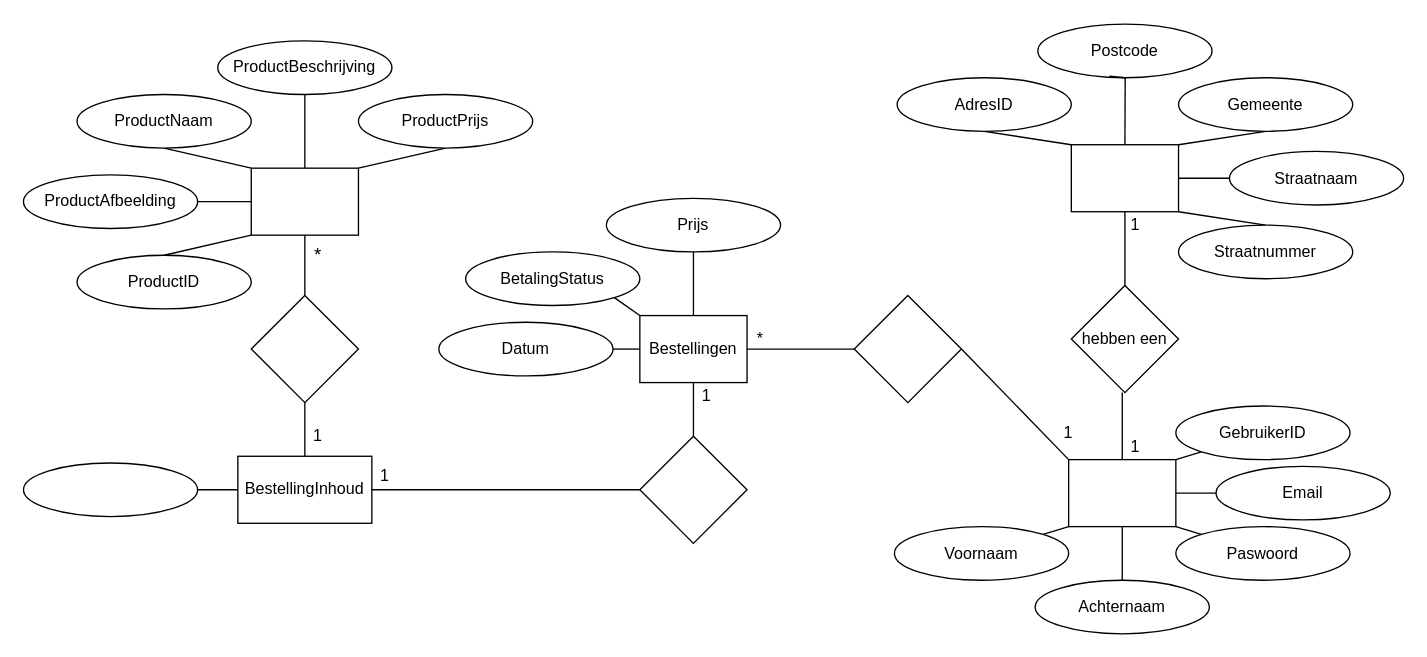
The diagram is 1427 pixels wide and 657 high, and some of its shapes have lost their labels. The shapes that lost their labels are listed below. From the top down, each one's box as (x1, y1, x2, y2) in pixels, then its label:
(1070, 143, 1179, 212): Adressen
(250, 167, 358, 235): Producten
(250, 294, 358, 403): bestaat uit
(853, 294, 961, 403): maken
(22, 462, 198, 517): Hoeveelheid
(639, 435, 747, 543): bevatten
(1067, 458, 1176, 527): Gebruikers
